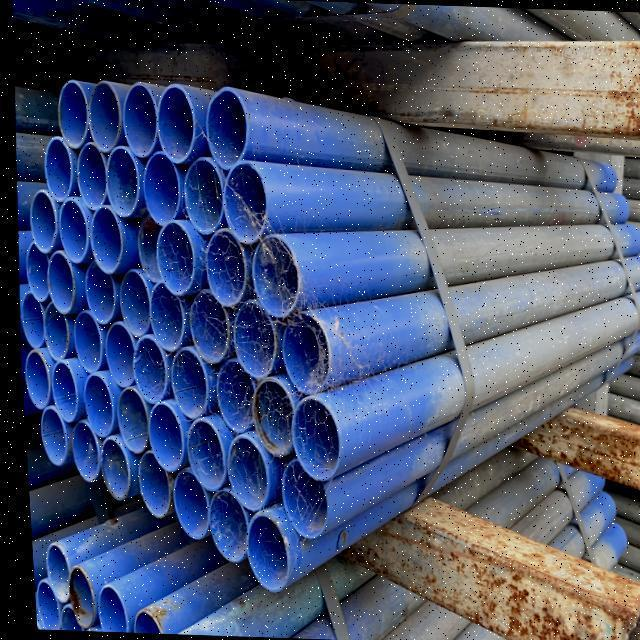pipe: (285, 389, 336, 480), (244, 233, 296, 318), (149, 80, 202, 163), (272, 453, 321, 536), (201, 84, 246, 170), (226, 295, 272, 377), (218, 432, 268, 507), (217, 159, 262, 241), (197, 477, 239, 563), (200, 223, 245, 303), (238, 511, 283, 587), (243, 374, 286, 453), (278, 313, 325, 385), (139, 148, 182, 226), (149, 213, 193, 289), (178, 155, 221, 232), (182, 287, 223, 365), (210, 353, 250, 429), (163, 455, 199, 539), (178, 414, 218, 488), (79, 245, 116, 323), (118, 79, 154, 158), (163, 344, 203, 414), (41, 226, 73, 313), (140, 397, 178, 469), (125, 332, 164, 401), (144, 276, 180, 348), (132, 442, 166, 517), (85, 200, 121, 270), (70, 136, 103, 208), (102, 142, 134, 215), (108, 383, 139, 455), (85, 76, 116, 147), (54, 78, 86, 146), (75, 368, 109, 431), (93, 432, 127, 495), (41, 134, 73, 199), (115, 265, 145, 333), (45, 358, 77, 421), (63, 416, 95, 479), (100, 318, 129, 384), (53, 195, 82, 260), (68, 304, 99, 364), (35, 403, 64, 462), (59, 561, 87, 620), (38, 537, 64, 600), (22, 338, 45, 406), (38, 297, 65, 354), (133, 209, 157, 273), (22, 238, 45, 300), (26, 188, 49, 249), (90, 584, 117, 628), (29, 577, 50, 620), (21, 291, 38, 341), (127, 613, 147, 633)
